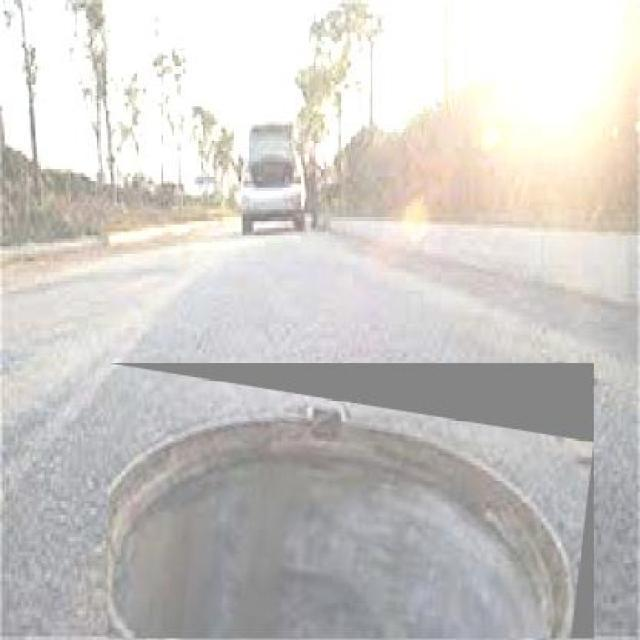Manhole: (108, 363, 594, 639)
